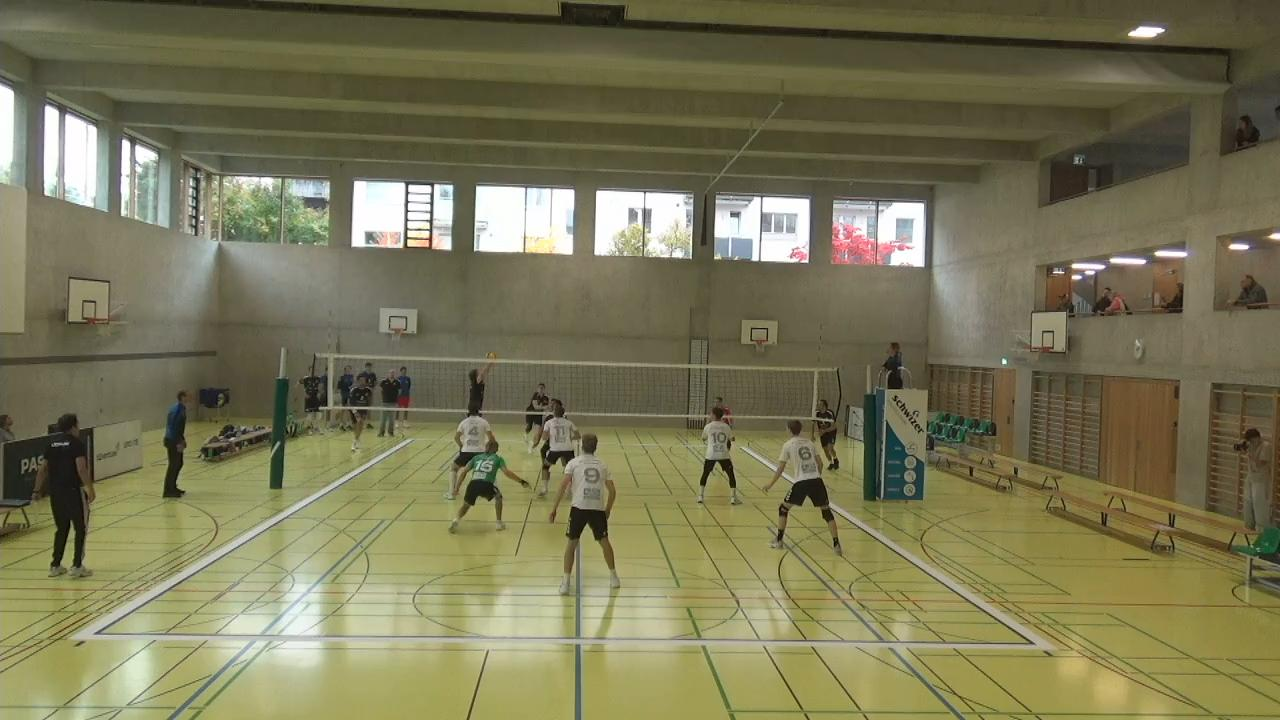alzata: (459, 348, 500, 422)
